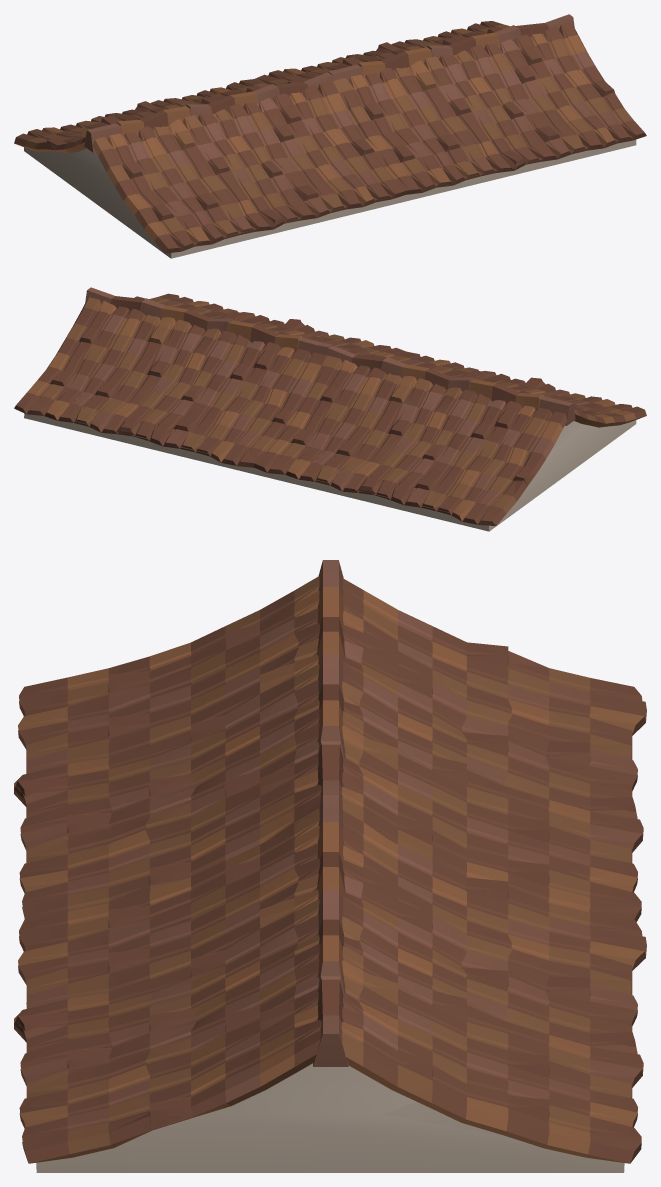
The model's file is Roof 02.fbx.
3 renders of one model, top to bottom at view 1: azimuth 30°, elevation 25°; view 2: azimuth 150°, elevation 25°; view 3: azimuth 270°, elevation 25°, orthographic. The views are drawn at different scales.
Parts seen in each view (by area): view 1: Roof 02 high, Roof 02, Roof 02 low; view 2: Roof 02 high, Roof 02, Roof 02 low; view 3: Roof 02 high, Roof 02, Roof 02 low.
Part boxes in pixels (left/top/right/bottom): Roof 02 high: left=14, top=14, right=646, bottom=258; Roof 02: left=27, top=22, right=635, bottom=251; Roof 02 low: left=71, top=29, right=632, bottom=247; Roof 02 high: left=14, top=287, right=646, bottom=531; Roof 02: left=23, top=295, right=633, bottom=524; Roof 02 low: left=28, top=320, right=582, bottom=520; Roof 02 high: left=14, top=561, right=646, bottom=1163; Roof 02: left=14, top=560, right=646, bottom=1144; Roof 02 low: left=26, top=652, right=632, bottom=1172.
Size of the model in its own units: 7.67 by 1.17 by 4.36.
1 material, 1 textured.
